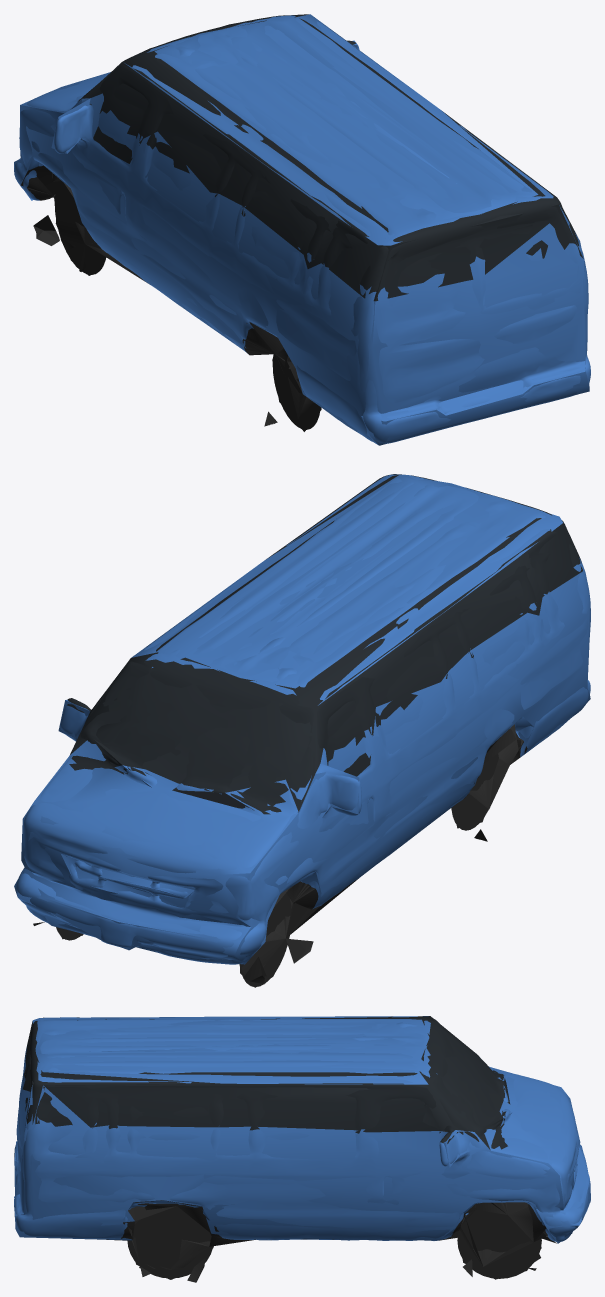
The model's file is ford-e250-van.glb.
3 renders of one model, top to bottom at view 1: azimuth 30°, elevation 25°; view 2: azimuth 150°, elevation 25°; view 3: azimuth 270°, elevation 25°, orthographic. The views are drawn at different scales.
Parts seen in each view (by area): view 1: body, far; view 2: body, far; view 3: body, far.
Boxes of the visible parts, x1,y1,x2,y2 form: body: (14, 15, 590, 443); far: (14, 14, 589, 445); body: (16, 474, 590, 986); far: (14, 475, 590, 987); body: (14, 1016, 590, 1282); far: (14, 1016, 589, 1281).
Size of the model in its own units: 2.64 by 2.16 by 5.6.
